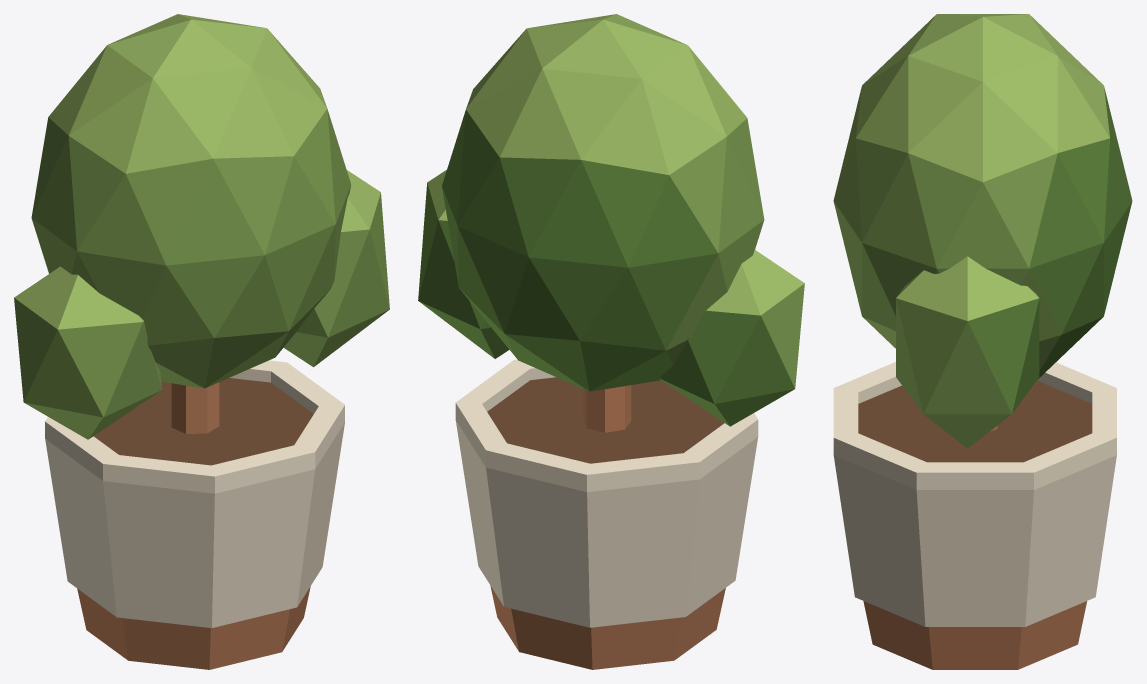
Rendered from Tree_2.fbx.
The picture shows the model from 3 angles, left to right: view 1: azimuth 30°, elevation 25°; view 2: azimuth 150°, elevation 25°; view 3: azimuth 270°, elevation 25°; orthographic projection.
Visible parts, largest first — view 1: 19_Topiary / Faceted foliage, 19_Topiary / Ivory planter, 19_Topiary / Faceted foliage.001, Planter rim.001, 19_Topiary / Dark soil, 19_Topiary / Faceted foliage.002, 19_Topiary / Terracotta foot, 19_Topiary / Trunk; view 2: 19_Topiary / Faceted foliage, 19_Topiary / Ivory planter, 19_Topiary / Faceted foliage.001, 19_Topiary / Dark soil, Planter rim.001, 19_Topiary / Terracotta foot, 19_Topiary / Faceted foliage.002, 19_Topiary / Trunk; view 3: 19_Topiary / Faceted foliage, 19_Topiary / Ivory planter, 19_Topiary / Faceted foliage.002, Planter rim.001, 19_Topiary / Dark soil, 19_Topiary / Terracotta foot.
Boxes of the visible parts, x1=… form: 19_Topiary / Faceted foliage: x1=31, y1=14, x2=351, y2=388; 19_Topiary / Ivory planter: x1=45, y1=422, x2=344, y2=627; 19_Topiary / Faceted foliage.001: x1=14, y1=266, x2=161, y2=439; Planter rim.001: x1=45, y1=360, x2=344, y2=493; 19_Topiary / Dark soil: x1=93, y1=378, x2=313, y2=465; 19_Topiary / Faceted foliage.002: x1=283, y1=170, x2=389, y2=367; 19_Topiary / Terracotta foot: x1=77, y1=586, x2=310, y2=669; 19_Topiary / Trunk: x1=171, y1=382, x2=219, y2=433; 19_Topiary / Faceted foliage: x1=442, y1=14, x2=764, y2=391; 19_Topiary / Ivory planter: x1=455, y1=420, x2=757, y2=627; 19_Topiary / Faceted foliage.001: x1=659, y1=250, x2=804, y2=426; 19_Topiary / Dark soil: x1=487, y1=377, x2=724, y2=463; Planter rim.001: x1=455, y1=359, x2=758, y2=492; 19_Topiary / Terracotta foot: x1=490, y1=585, x2=725, y2=669; 19_Topiary / Faceted foliage.002: x1=418, y1=170, x2=509, y2=358; 19_Topiary / Trunk: x1=583, y1=385, x2=631, y2=432; 19_Topiary / Faceted foliage: x1=833, y1=14, x2=1132, y2=379; 19_Topiary / Ivory planter: x1=833, y1=455, x2=1116, y2=626; 19_Topiary / Faceted foliage.002: x1=896, y1=256, x2=1039, y2=448; Planter rim.001: x1=833, y1=362, x2=1116, y2=489; 19_Topiary / Dark soil: x1=858, y1=380, x2=1092, y2=462; 19_Topiary / Terracotta foot: x1=863, y1=601, x2=1086, y2=669.
Size of the model in its own units: 110 by 176 by 78.
